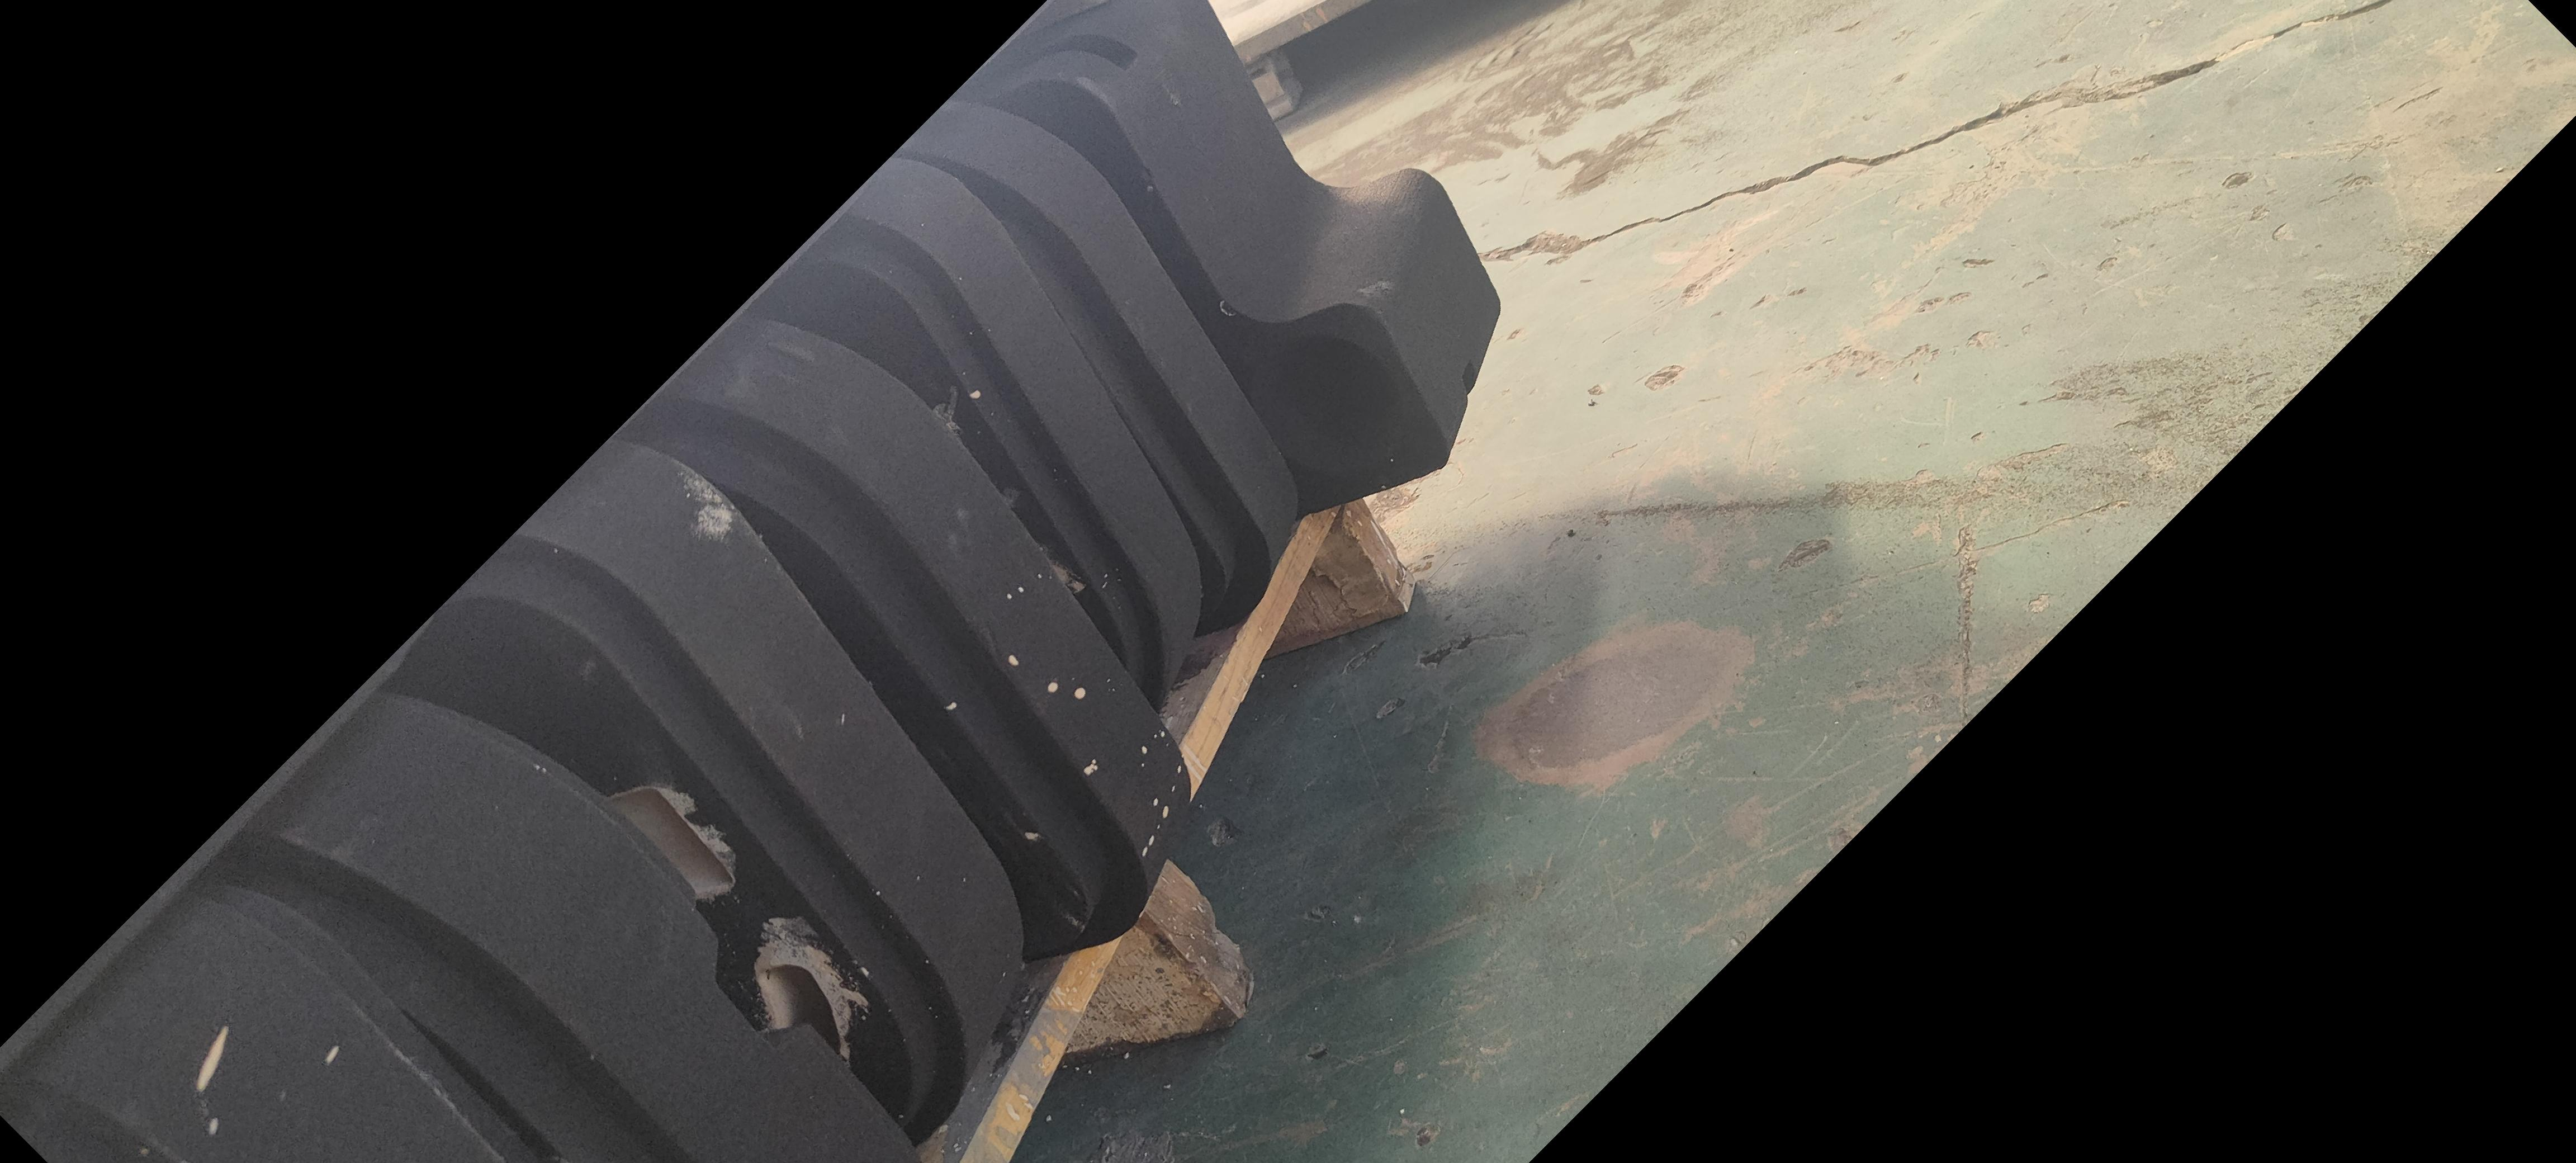pouring hole: (1247, 337, 1401, 475)
